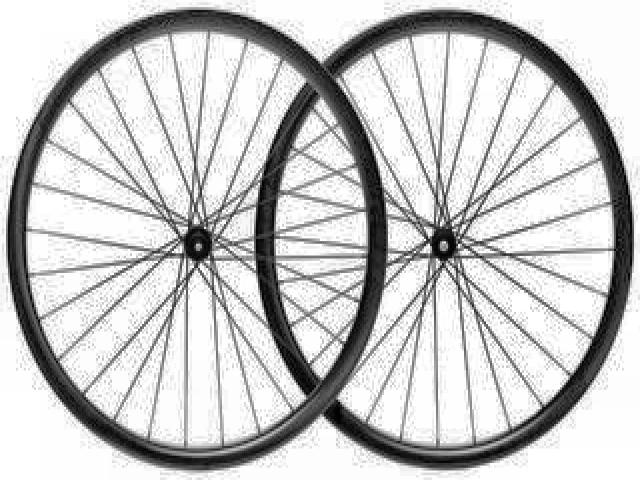wheel: (252, 5, 639, 475), (4, 4, 393, 469)
